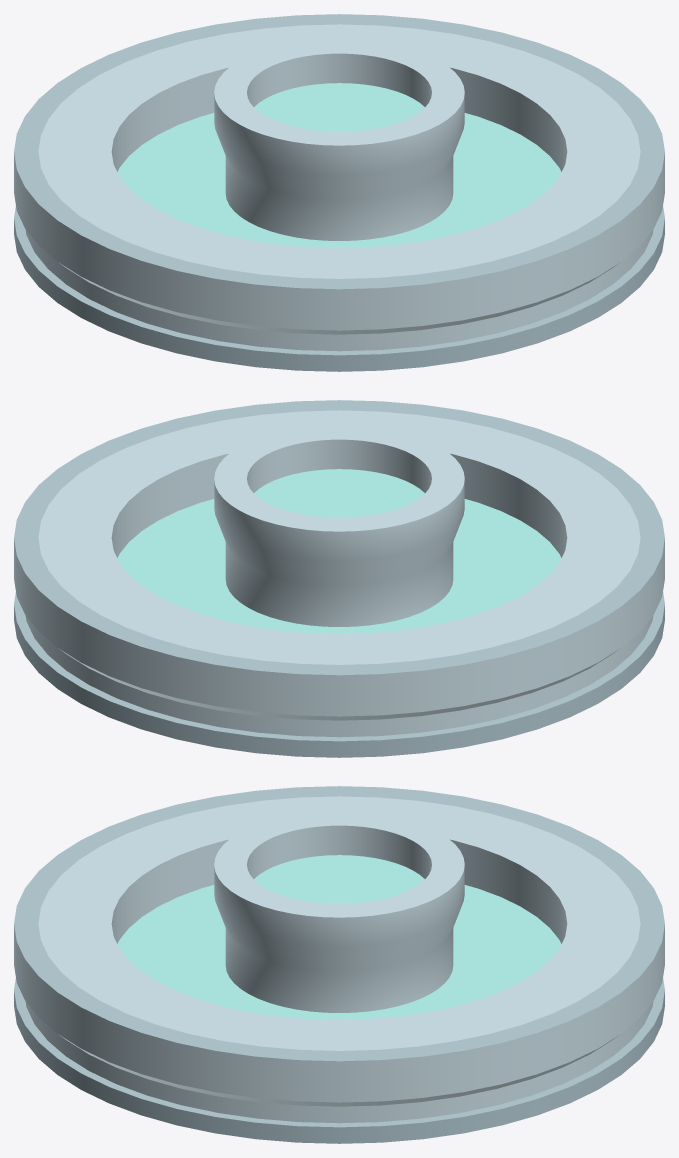
The picture shows the model from 3 angles, top to bottom: view 1: azimuth 30°, elevation 25°; view 2: azimuth 150°, elevation 25°; view 3: azimuth 270°, elevation 25°; orthographic projection.
Parts seen in each view (by area): view 1: fountainRoundDetail; view 2: fountainRoundDetail; view 3: fountainRoundDetail.
Boxes of the visible parts, x1,y1,x2,y2 form: fountainRoundDetail: (14, 14, 664, 371); fountainRoundDetail: (14, 400, 664, 757); fountainRoundDetail: (14, 786, 664, 1143).
Bounding box in the file's own units: 2 × 0.48 × 2.
